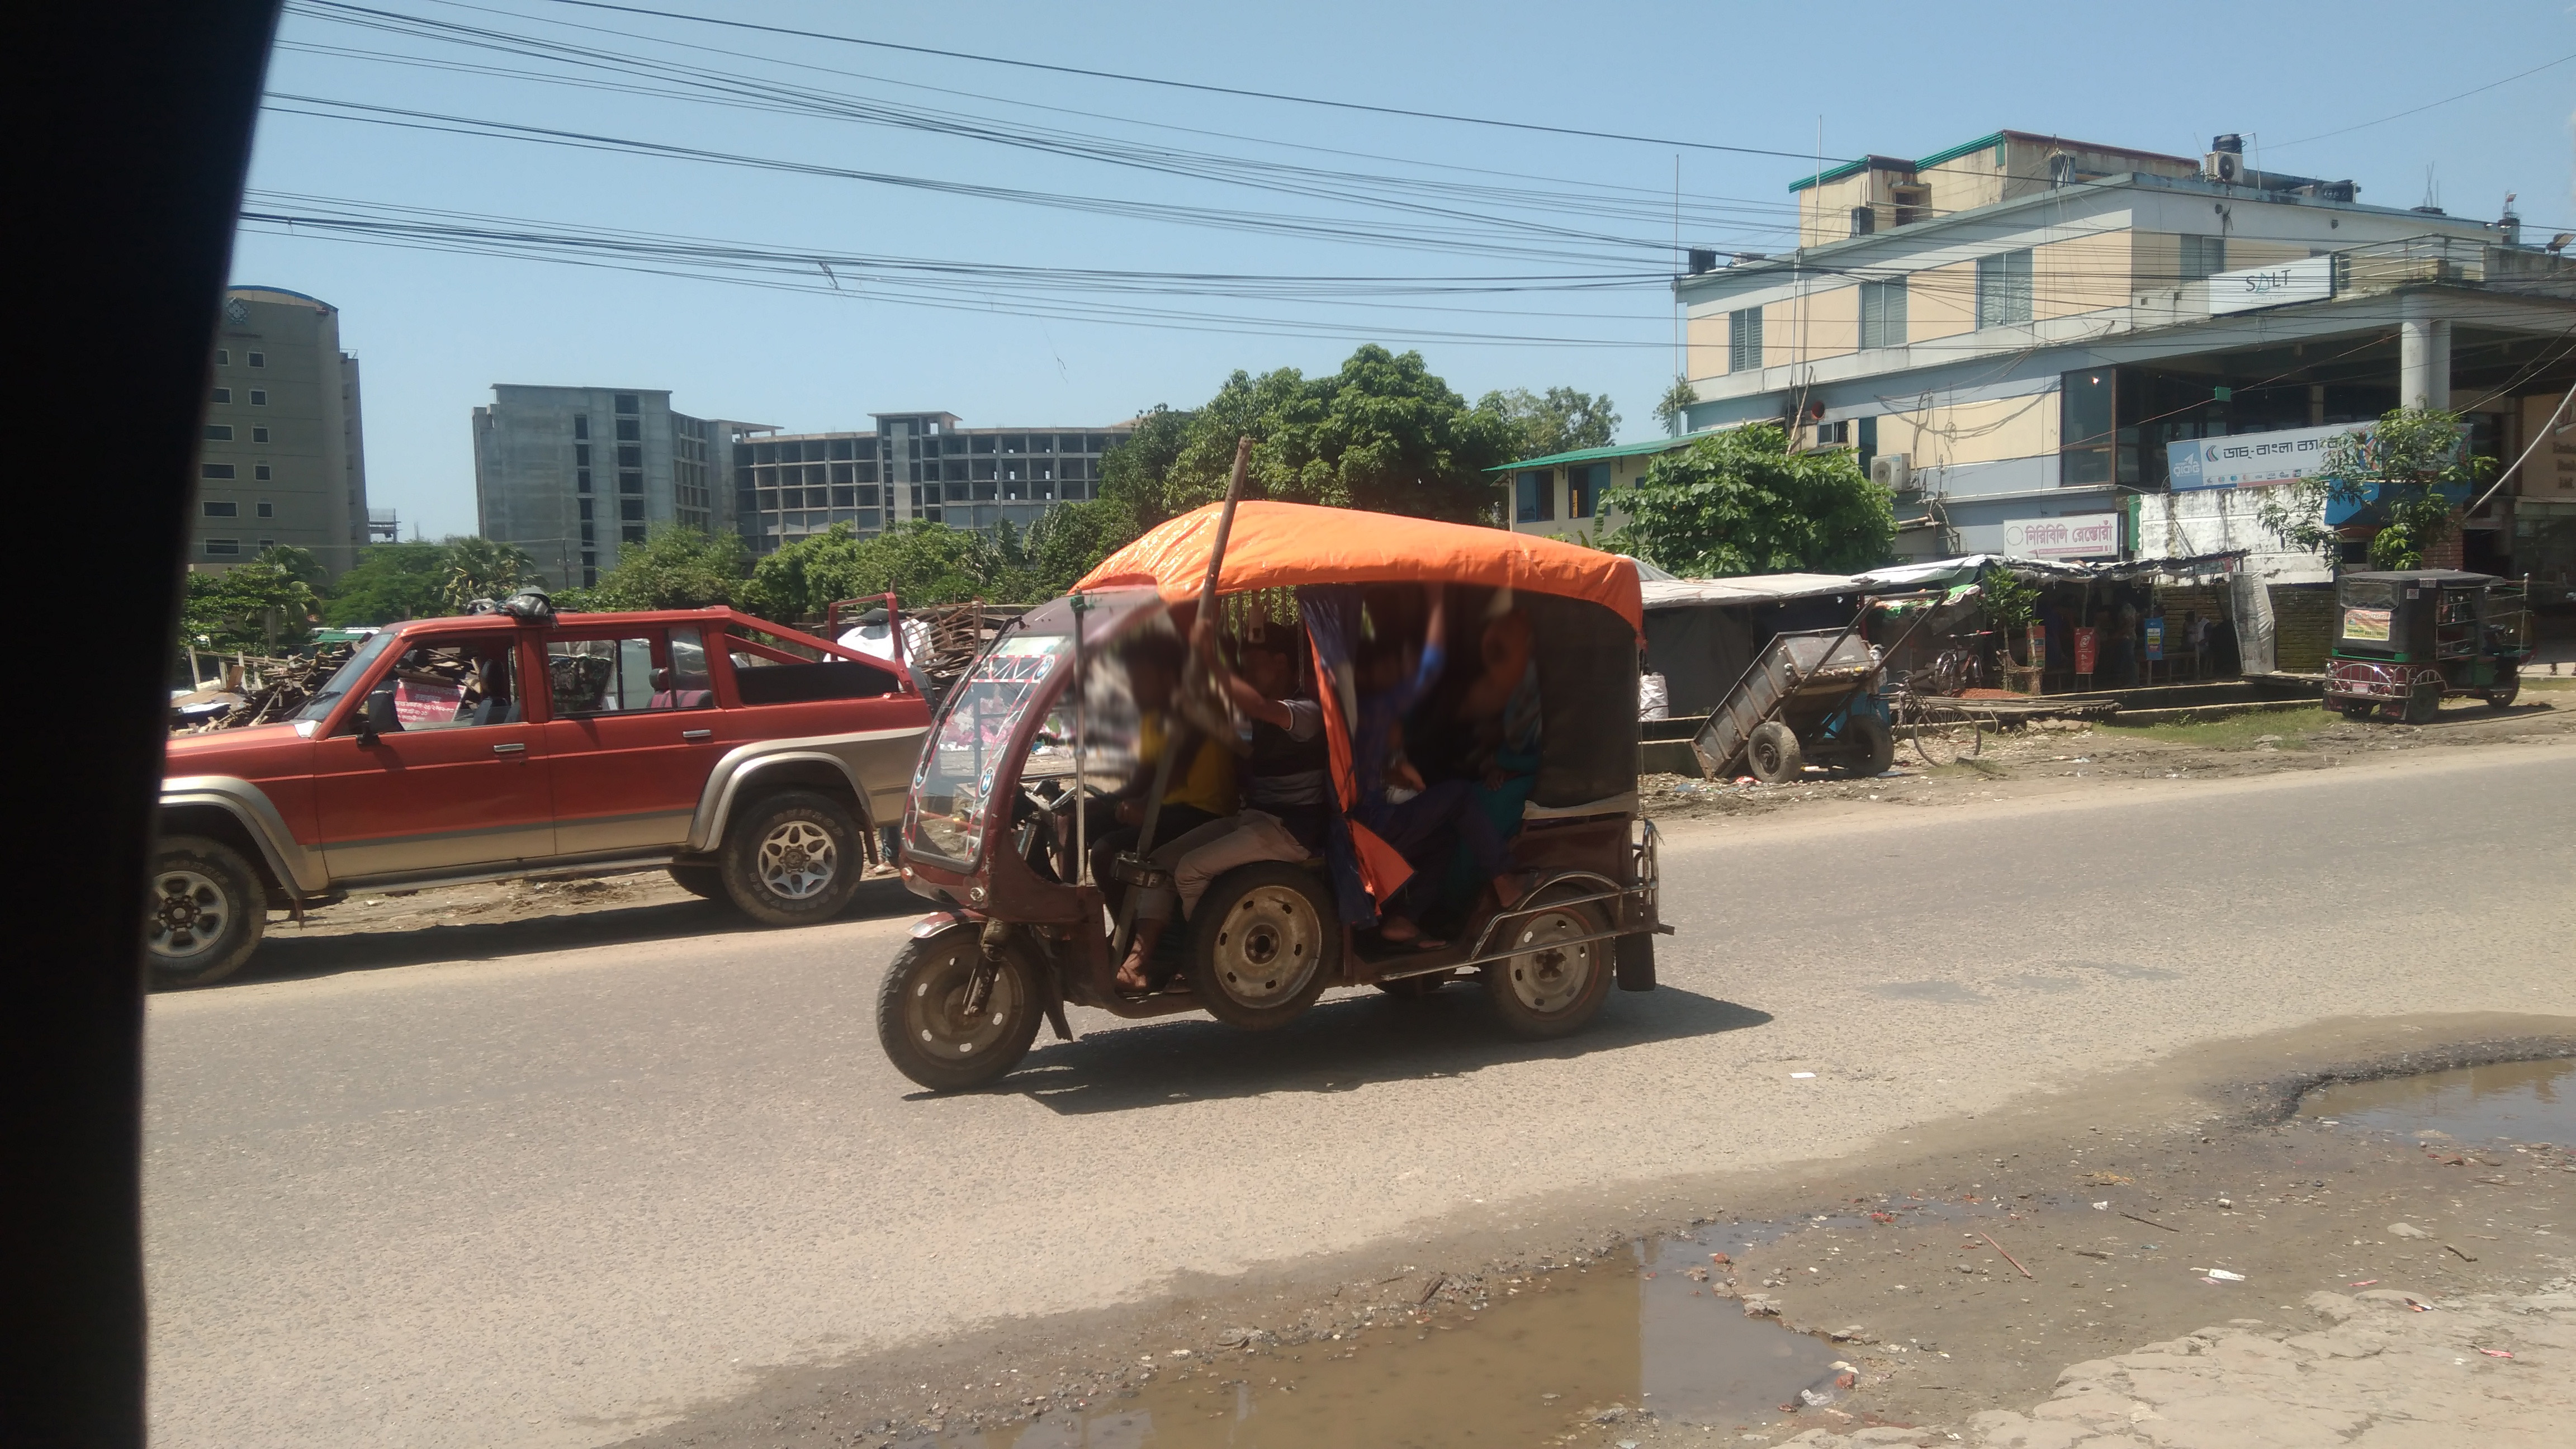car: (134, 579, 934, 1001)
easybike: (874, 490, 1658, 1108), (2330, 564, 2534, 727)
wheelbarrow: (1686, 571, 1971, 817)
